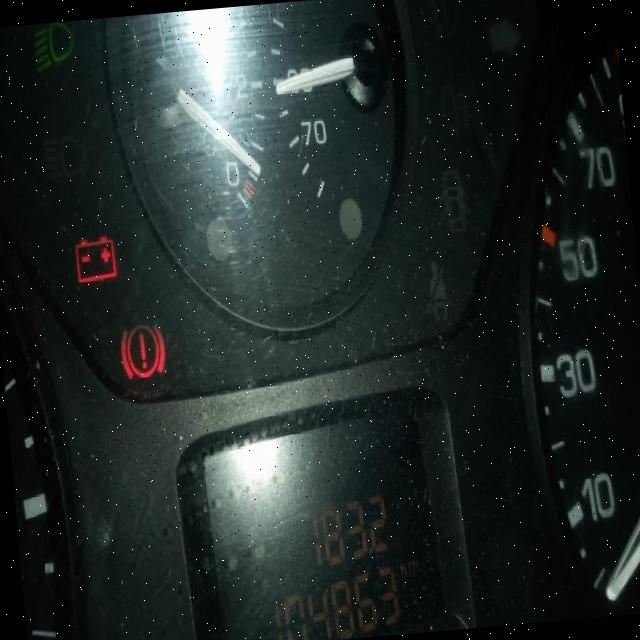odometer: (196, 400, 451, 640)
